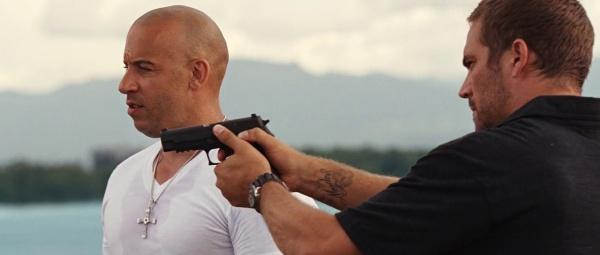Gun: (162, 113, 275, 156)
